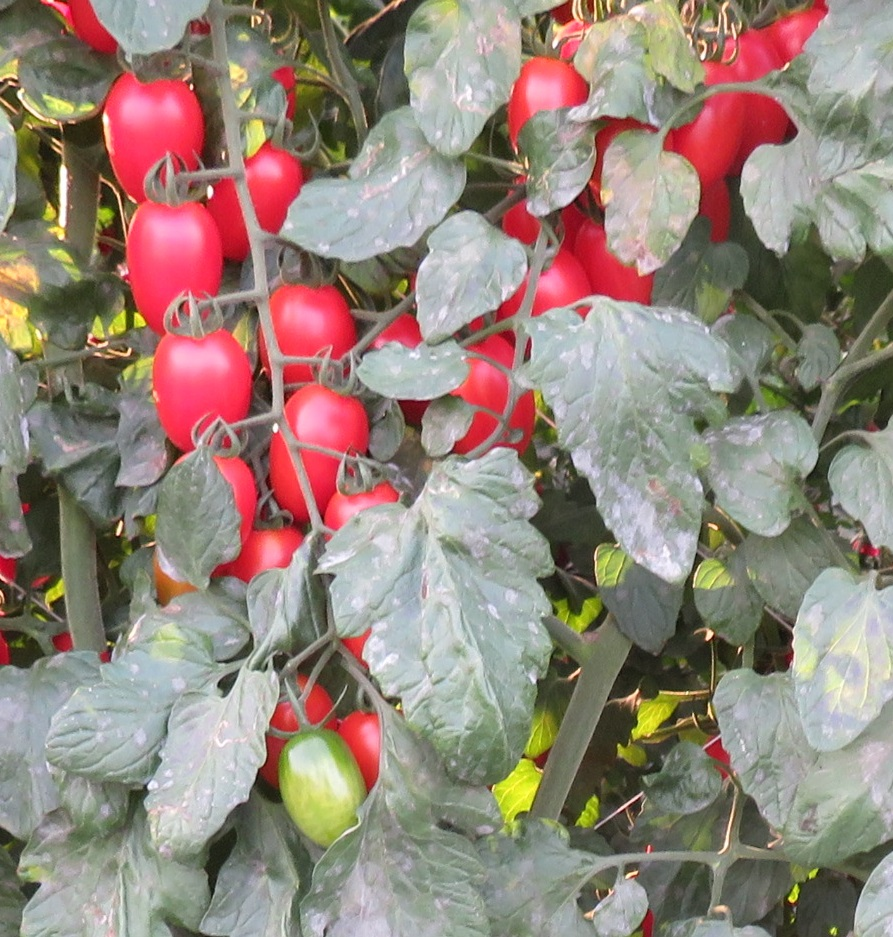green: (278, 728, 367, 845)
red: (274, 383, 380, 520), (100, 72, 206, 195), (145, 326, 249, 451), (126, 192, 220, 319), (450, 334, 537, 464), (260, 272, 357, 384), (209, 145, 303, 260), (672, 58, 745, 181), (504, 53, 589, 155), (573, 213, 657, 311), (726, 29, 790, 156), (507, 246, 595, 323)
